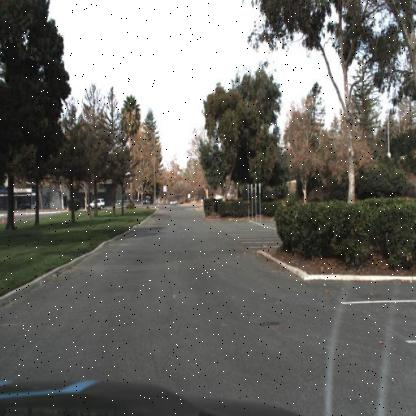car: (84, 193, 106, 214)
